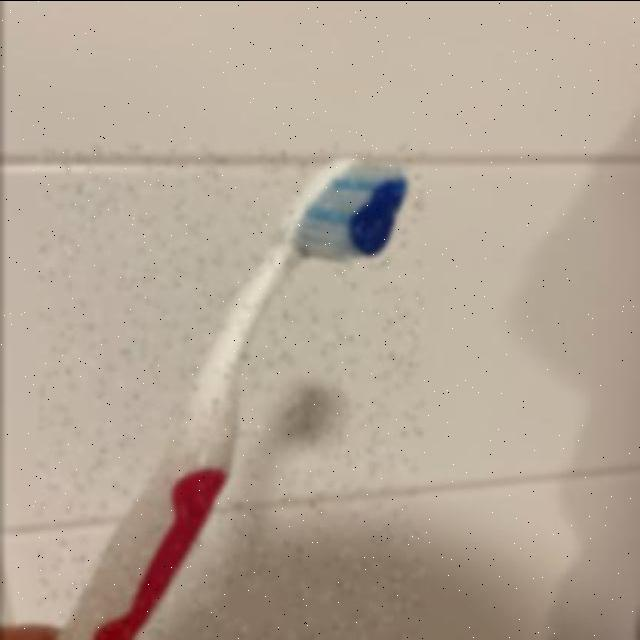toothbrush: (37, 145, 423, 640)
